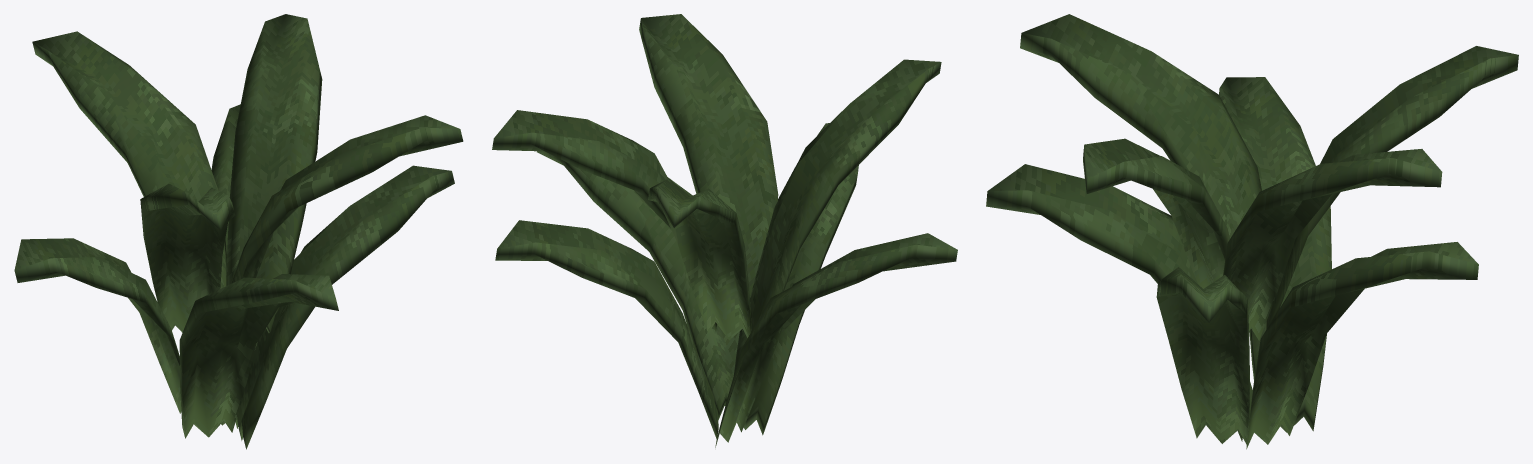
Rendered from PlantaV4.fbx.
3 renders of one model, left to right at view 1: azimuth 30°, elevation 25°; view 2: azimuth 150°, elevation 25°; view 3: azimuth 270°, elevation 25°, orthographic. The views are drawn at different scales.
Parts seen in each view (by area): view 1: A planta; view 2: A planta; view 3: A planta.
Boxes of the visible parts, x1,y1,x2,y2 form: A planta: (14, 14, 463, 449); A planta: (492, 14, 957, 447); A planta: (986, 14, 1518, 449).
Bounding box in the file's own units: 413 × 302 × 402.
1 material, 1 textured.
